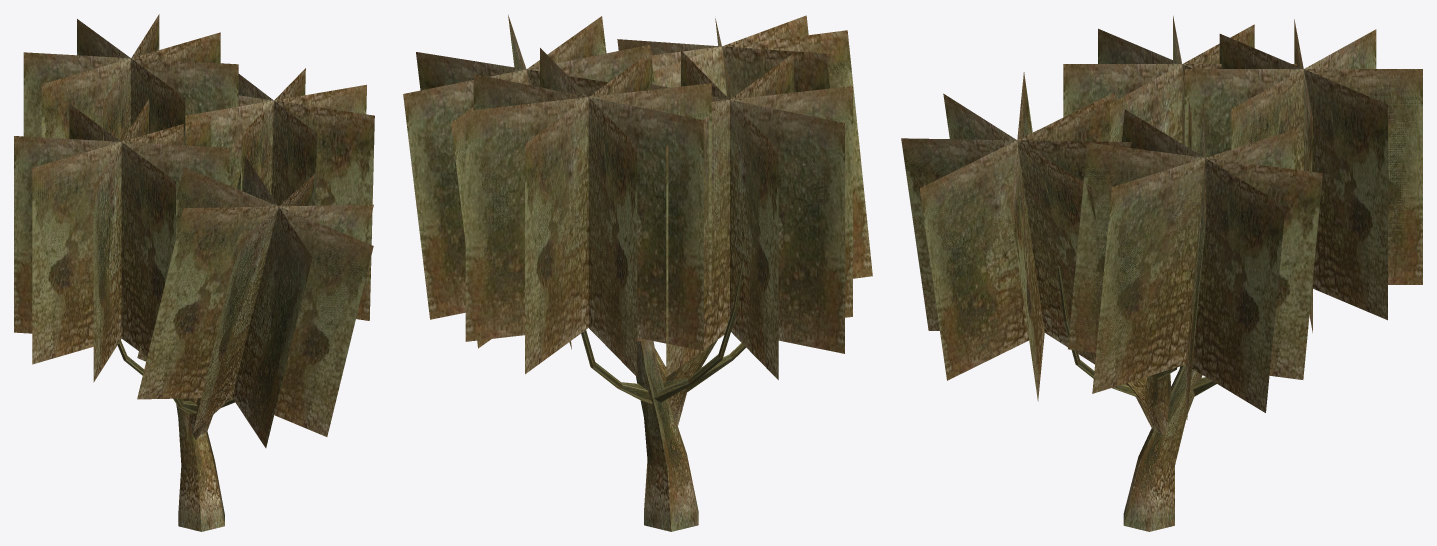
3 renders of one model, left to right at view 1: azimuth 30°, elevation 25°; view 2: azimuth 150°, elevation 25°; view 3: azimuth 270°, elevation 25°, orthographic. The views are drawn at different scales.
Visible parts, largest first — view 1: 2_Cluster5, 1_Trunk; view 2: 2_Cluster5, 1_Trunk; view 3: 2_Cluster5, 1_Trunk.
Part boxes in pixels (bbox=[...]): 2_Cluster5: bbox=[14, 14, 374, 447]; 1_Trunk: bbox=[117, 340, 234, 531]; 2_Cluster5: bbox=[403, 14, 872, 379]; 1_Trunk: bbox=[581, 254, 745, 531]; 2_Cluster5: bbox=[901, 16, 1422, 419]; 1_Trunk: bbox=[1057, 266, 1216, 531].
Bounding box in the file's own units: 134 × 150 × 158.
Materials: 1 (1 with a texture image).
